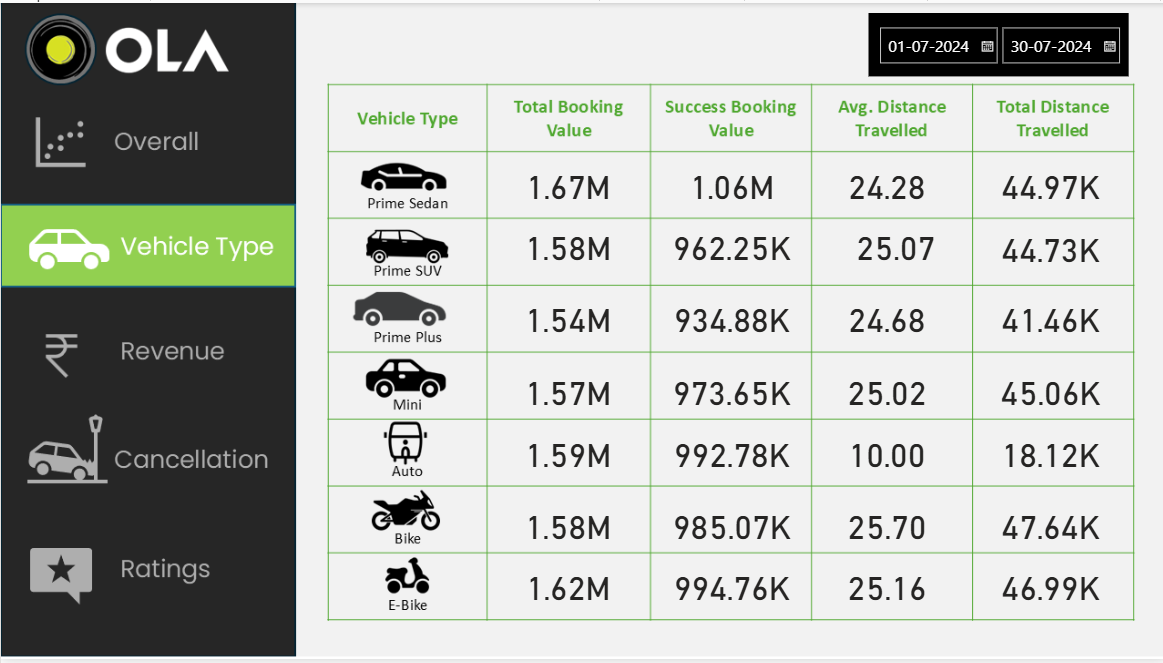

Layout of this report page (visuals, bound fields, positions):
{"tool":"powerbi","page":{"name":"Vehicle Type","canvas":[1280,720],"ordinal":1},"visuals":[{"type":"actionButton","box":[0,331.8,322.1,94.1],"z":0},{"type":"actionButton","box":[0,445.2,322.1,94.1],"z":1000},{"type":"actionButton","box":[0,575.5,322.1,94.1],"z":2000},{"type":"actionButton","box":[0,103.8,322.1,94.1],"z":3000},{"type":"card","fields":{"Values":["Sum(Bookings.Booking_Value)"]},"box":[537.9,166,170.2,67.2],"z":4000},{"type":"card","fields":{"Values":["Sum(Bookings.Booking_Value)"]},"box":[537.9,233.3,170.2,67.2],"z":5000},{"type":"card","fields":{"Values":["Sum(Bookings.Booking_Value)"]},"box":[537.9,311.5,170.2,67.2],"z":6000},{"type":"card","fields":{"Values":["Sum(Bookings.Booking_Value)"]},"box":[537.9,392.5,170.2,67.2],"z":7000},{"type":"card","fields":{"Values":["Sum(Bookings.Booking_Value)"]},"box":[537.9,459.7,170.2,67.2],"z":8000},{"type":"card","fields":{"Values":["Sum(Bookings.Booking_Value)"]},"box":[537.9,539.3,170.2,67.2],"z":9000},{"type":"card","fields":{"Values":["Sum(Bookings.Booking_Value)"]},"box":[537.9,606.5,170.2,67.2],"z":10000},{"type":"card","fields":{"Values":["Sum(Bookings.Booking_Value)"]},"box":[717.7,166,170.2,67.2],"z":11000},{"type":"card","fields":{"Values":["Sum(Bookings.Booking_Value)"]},"box":[717.7,233.3,170.2,67.2],"z":12000},{"type":"card","fields":{"Values":["Sum(Bookings.Booking_Value)"]},"box":[717.7,311.5,170.2,67.2],"z":13000},{"type":"card","fields":{"Values":["Sum(Bookings.Booking_Value)"]},"box":[717.7,392.5,170.2,67.2],"z":14000},{"type":"card","fields":{"Values":["Sum(Bookings.Booking_Value)"]},"box":[717.7,459.7,170.2,67.2],"z":15000},{"type":"card","fields":{"Values":["Sum(Bookings.Booking_Value)"]},"box":[717.7,539.3,170.2,67.2],"z":16000},{"type":"card","fields":{"Values":["Sum(Bookings.Booking_Value)"]},"box":[717.7,606.5,170.2,67.2],"z":17000},{"type":"card","fields":{"Values":["Avg(Bookings.Ride_Distance)"]},"box":[887.8,166,170.2,67.2],"z":18000},{"type":"card","fields":{"Values":["Avg(Bookings.Ride_Distance)"]},"box":[897.4,233.3,170.2,67.2],"z":19000},{"type":"card","fields":{"Values":["Avg(Bookings.Ride_Distance)"]},"box":[887.8,311.5,170.2,67.2],"z":20000},{"type":"card","fields":{"Values":["Avg(Bookings.Ride_Distance)"]},"box":[887.8,392.5,170.2,67.2],"z":21000},{"type":"card","fields":{"Values":["Avg(Bookings.Ride_Distance)"]},"box":[887.8,459.7,170.2,67.2],"z":22000},{"type":"card","fields":{"Values":["Avg(Bookings.Ride_Distance)"]},"box":[887.8,539.3,170.2,67.2],"z":23000},{"type":"card","fields":{"Values":["Avg(Bookings.Ride_Distance)"]},"box":[887.8,606.5,170.2,67.2],"z":24000},{"type":"card","fields":{"Values":["Sum(Bookings.Ride_Distance)"]},"box":[1067.6,166,170.2,67.2],"z":25000},{"type":"card","fields":{"Values":["Sum(Bookings.Ride_Distance)"]},"box":[1067.6,234.6,170.2,67.2],"z":26000},{"type":"card","fields":{"Values":["Sum(Bookings.Ride_Distance)"]},"box":[1067.6,311.5,170.2,67.2],"z":27000},{"type":"card","fields":{"Values":["Sum(Bookings.Ride_Distance)"]},"box":[1067.6,392.5,170.2,67.2],"z":28000},{"type":"card","fields":{"Values":["Sum(Bookings.Ride_Distance)"]},"box":[1067.6,459.7,170.2,67.2],"z":29000},{"type":"card","fields":{"Values":["Sum(Bookings.Ride_Distance)"]},"box":[1067.6,539.3,170.2,67.2],"z":30000},{"type":"card","fields":{"Values":["Sum(Bookings.Ride_Distance)"]},"box":[1067.6,606.5,170.2,67.2],"z":31000},{"type":"slicer","title":"Date","fields":{"Values":["Bookings.Date"]},"box":[952.3,11,285.4,70],"z":32000}]}

Visuals, with their boxes on the page's 1280x720 design canvas (x1, y1, x2, y2). These are canvas units, not pixel positions in the 1163x663 screenshot, which may show the page scaled, cropped or inside an application window:
actionButton: {"left": 0, "top": 332, "right": 322, "bottom": 426}
actionButton: {"left": 0, "top": 445, "right": 322, "bottom": 539}
actionButton: {"left": 0, "top": 576, "right": 322, "bottom": 670}
actionButton: {"left": 0, "top": 104, "right": 322, "bottom": 198}
card - Sum(Bookings.Booking_Value): {"left": 538, "top": 166, "right": 708, "bottom": 233}
card - Sum(Bookings.Booking_Value): {"left": 538, "top": 233, "right": 708, "bottom": 300}
card - Sum(Bookings.Booking_Value): {"left": 538, "top": 312, "right": 708, "bottom": 379}
card - Sum(Bookings.Booking_Value): {"left": 538, "top": 392, "right": 708, "bottom": 460}
card - Sum(Bookings.Booking_Value): {"left": 538, "top": 460, "right": 708, "bottom": 527}
card - Sum(Bookings.Booking_Value): {"left": 538, "top": 539, "right": 708, "bottom": 606}
card - Sum(Bookings.Booking_Value): {"left": 538, "top": 606, "right": 708, "bottom": 674}
card - Sum(Bookings.Booking_Value): {"left": 718, "top": 166, "right": 888, "bottom": 233}
card - Sum(Bookings.Booking_Value): {"left": 718, "top": 233, "right": 888, "bottom": 300}
card - Sum(Bookings.Booking_Value): {"left": 718, "top": 312, "right": 888, "bottom": 379}
card - Sum(Bookings.Booking_Value): {"left": 718, "top": 392, "right": 888, "bottom": 460}
card - Sum(Bookings.Booking_Value): {"left": 718, "top": 460, "right": 888, "bottom": 527}
card - Sum(Bookings.Booking_Value): {"left": 718, "top": 539, "right": 888, "bottom": 606}
card - Sum(Bookings.Booking_Value): {"left": 718, "top": 606, "right": 888, "bottom": 674}
card - Avg(Bookings.Ride_Distance): {"left": 888, "top": 166, "right": 1058, "bottom": 233}
card - Avg(Bookings.Ride_Distance): {"left": 897, "top": 233, "right": 1068, "bottom": 300}
card - Avg(Bookings.Ride_Distance): {"left": 888, "top": 312, "right": 1058, "bottom": 379}
card - Avg(Bookings.Ride_Distance): {"left": 888, "top": 392, "right": 1058, "bottom": 460}
card - Avg(Bookings.Ride_Distance): {"left": 888, "top": 460, "right": 1058, "bottom": 527}
card - Avg(Bookings.Ride_Distance): {"left": 888, "top": 539, "right": 1058, "bottom": 606}
card - Avg(Bookings.Ride_Distance): {"left": 888, "top": 606, "right": 1058, "bottom": 674}
card - Sum(Bookings.Ride_Distance): {"left": 1068, "top": 166, "right": 1238, "bottom": 233}
card - Sum(Bookings.Ride_Distance): {"left": 1068, "top": 235, "right": 1238, "bottom": 302}
card - Sum(Bookings.Ride_Distance): {"left": 1068, "top": 312, "right": 1238, "bottom": 379}
card - Sum(Bookings.Ride_Distance): {"left": 1068, "top": 392, "right": 1238, "bottom": 460}
card - Sum(Bookings.Ride_Distance): {"left": 1068, "top": 460, "right": 1238, "bottom": 527}
card - Sum(Bookings.Ride_Distance): {"left": 1068, "top": 539, "right": 1238, "bottom": 606}
card - Sum(Bookings.Ride_Distance): {"left": 1068, "top": 606, "right": 1238, "bottom": 674}
"Date" slicer: {"left": 952, "top": 11, "right": 1238, "bottom": 81}
